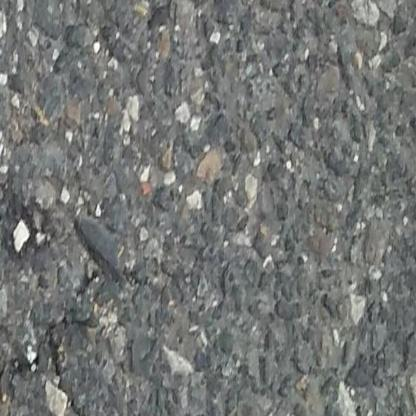Cracks: (0, 257, 142, 416)
